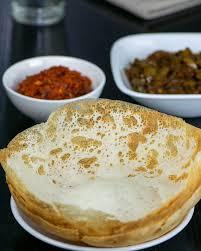Hoppers: (10, 97, 201, 246)
Lunu sambol: (13, 59, 99, 98)
